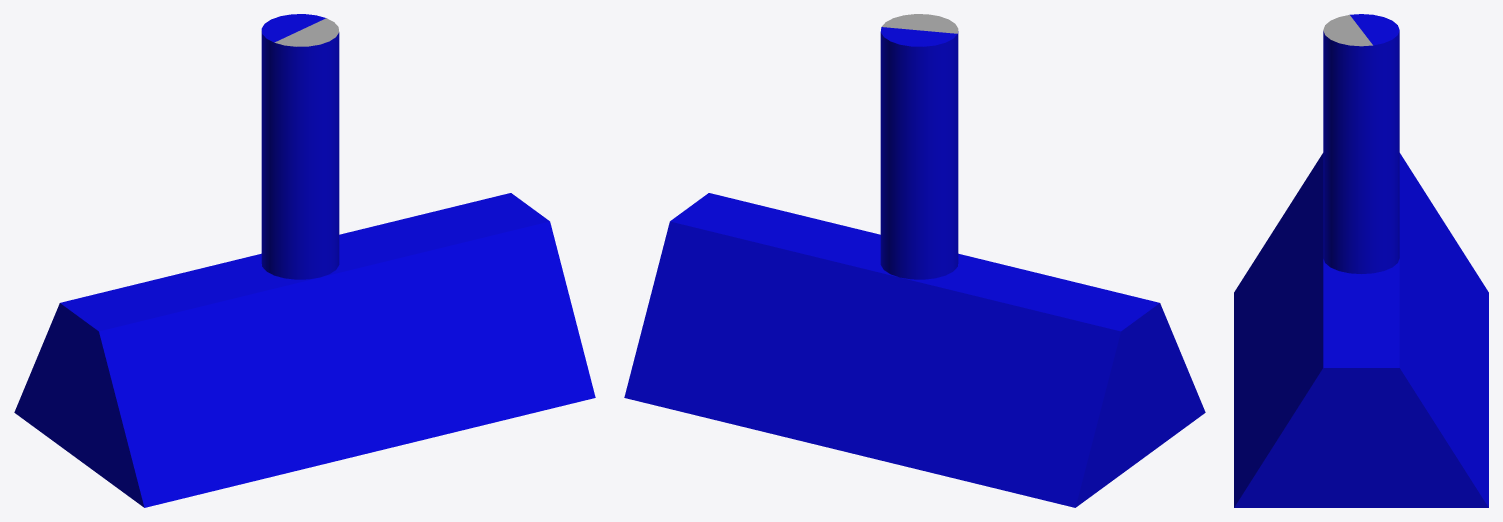
Rendered from playerCanon.fbx.
3 views of the same model, side by side, from view 1: azimuth 30°, elevation 25°; view 2: azimuth 150°, elevation 25°; view 3: azimuth 270°, elevation 25° (orthographic). The views are drawn at different scales.
Visible parts, largest first — view 1: pPrism2; view 2: pPrism2; view 3: pPrism2.
Part boxes in pixels (<box>): pPrism2: <box>14,14,595,507</box>; pPrism2: <box>624,14,1205,507</box>; pPrism2: <box>1234,14,1488,507</box>.
Size of the model in its own units: 2 by 1.59 by 1.
